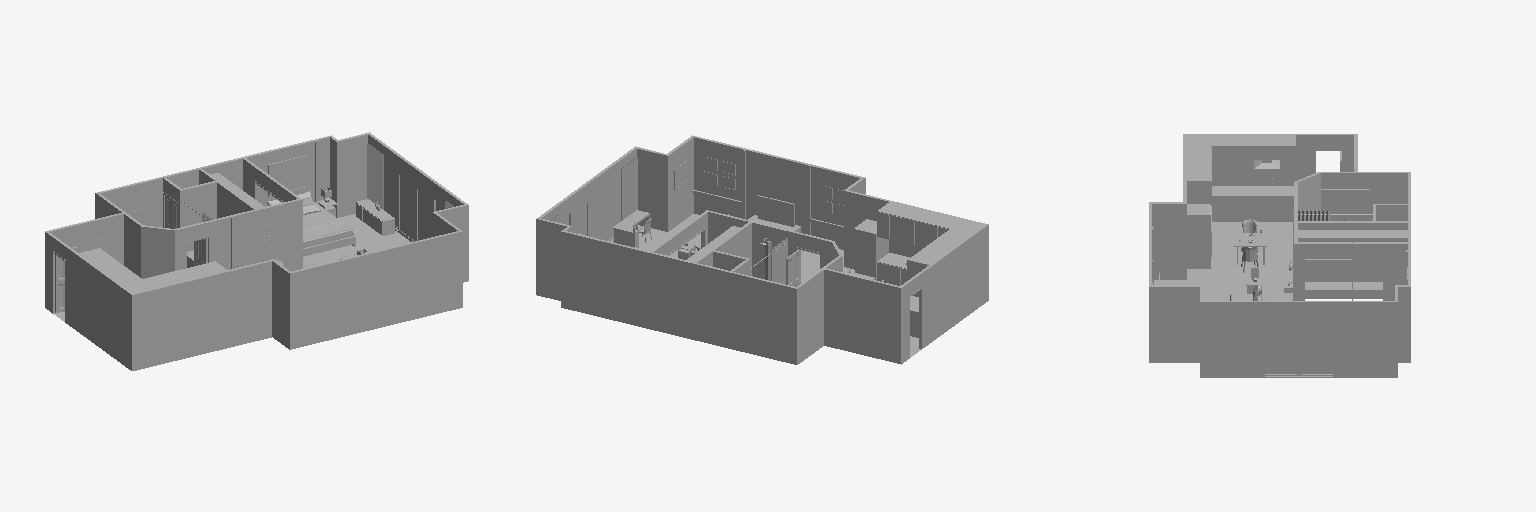
3 renders of one model, left to right at view 1: azimuth 30°, elevation 25°; view 2: azimuth 150°, elevation 25°; view 3: azimuth 270°, elevation 25°, orthographic.
Visible parts, largest first — view 1: Outside, Inside; view 2: Outside, Inside; view 3: Inside, Outside.
Boxes of the visible parts, x1=… form: Outside: x1=45, y1=132, x2=468, y2=370; Inside: x1=50, y1=135, x2=463, y2=322; Outside: x1=536, y1=135, x2=988, y2=364; Inside: x1=541, y1=137, x2=982, y2=358; Inside: x1=1152, y1=135, x2=1407, y2=377; Outside: x1=1149, y1=134, x2=1410, y2=377.
Size of the model in its own units: 466 by 98.43 by 307.